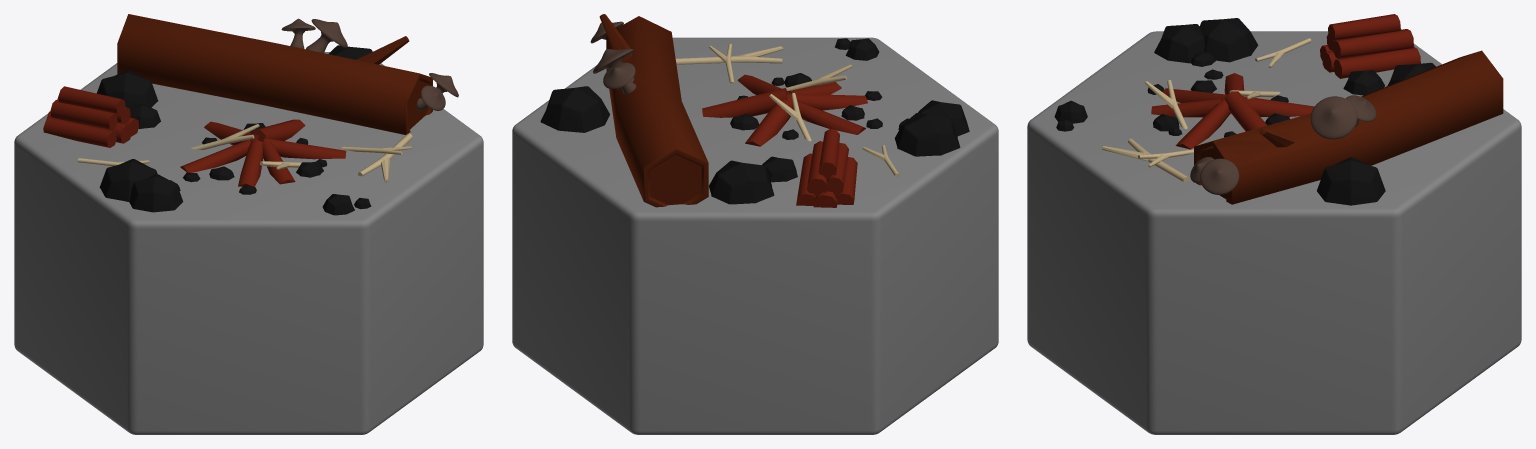
Rendered from Environment_Camp.fbx.
3 renders of one model, left to right at view 1: azimuth 30°, elevation 25°; view 2: azimuth 150°, elevation 25°; view 3: azimuth 270°, elevation 25°, orthographic. The views are drawn at different scales.
Visible parts, largest first — view 1: Cylinder011; view 2: Cylinder011; view 3: Cylinder011.
Part boxes in pixels (left/top/right/bottom): Cylinder011: left=14, top=14, right=483, bottom=434; Cylinder011: left=512, top=14, right=998, bottom=434; Cylinder011: left=1027, top=14, right=1521, bottom=434.
Size of the model in its own units: 175 by 132 by 199.
